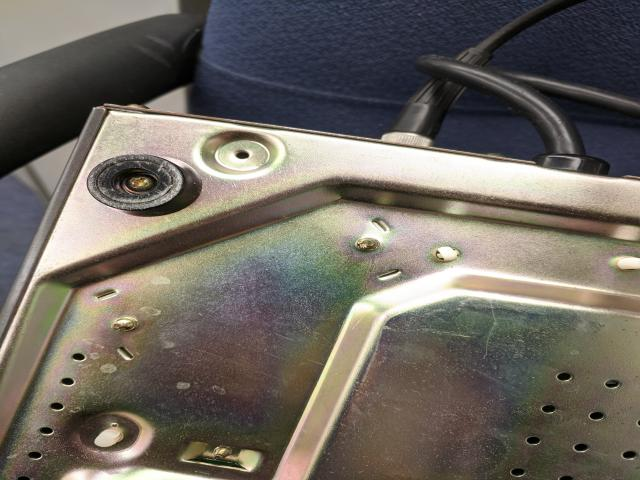CRS: (125, 175, 161, 192)
